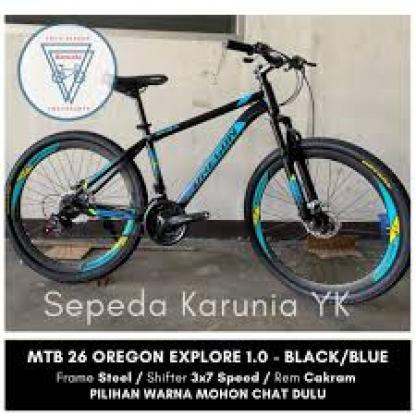Bike: (1, 43, 416, 302)
